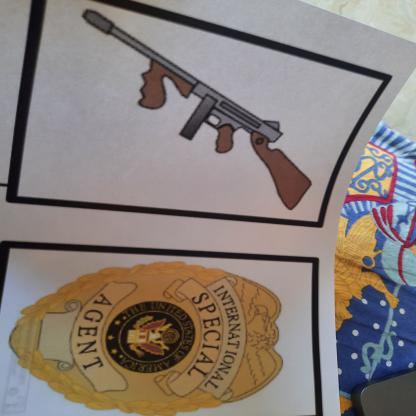Bootlegger: (69, 5, 335, 220)
G-man: (7, 249, 315, 416)
